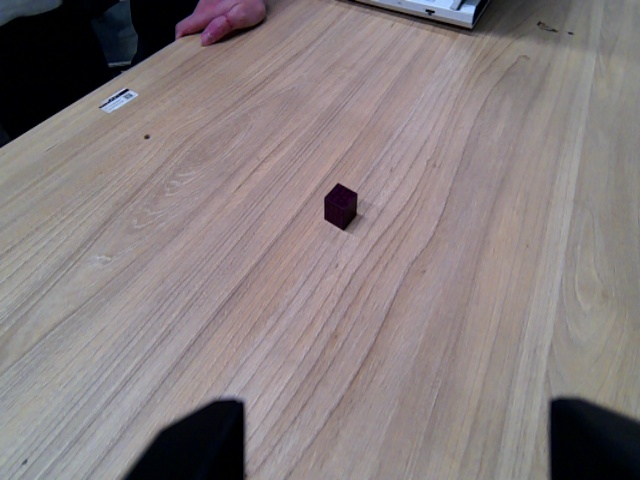brick: (322, 181, 359, 232)
